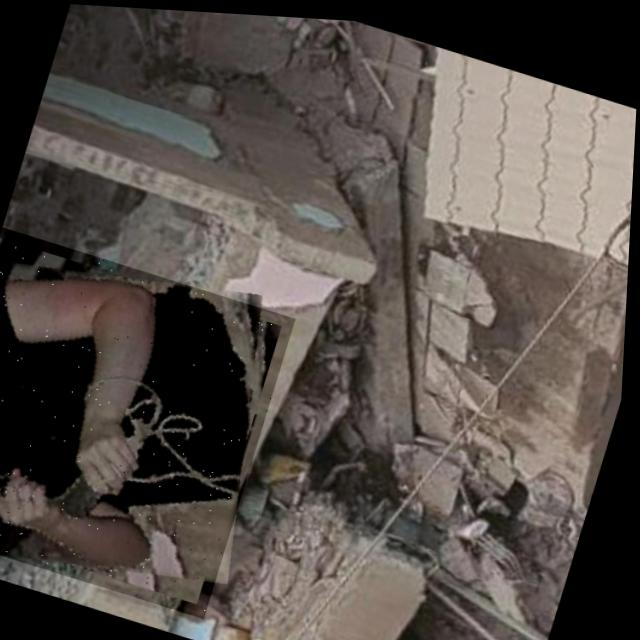Person in Rubble: (0, 225, 302, 618)
